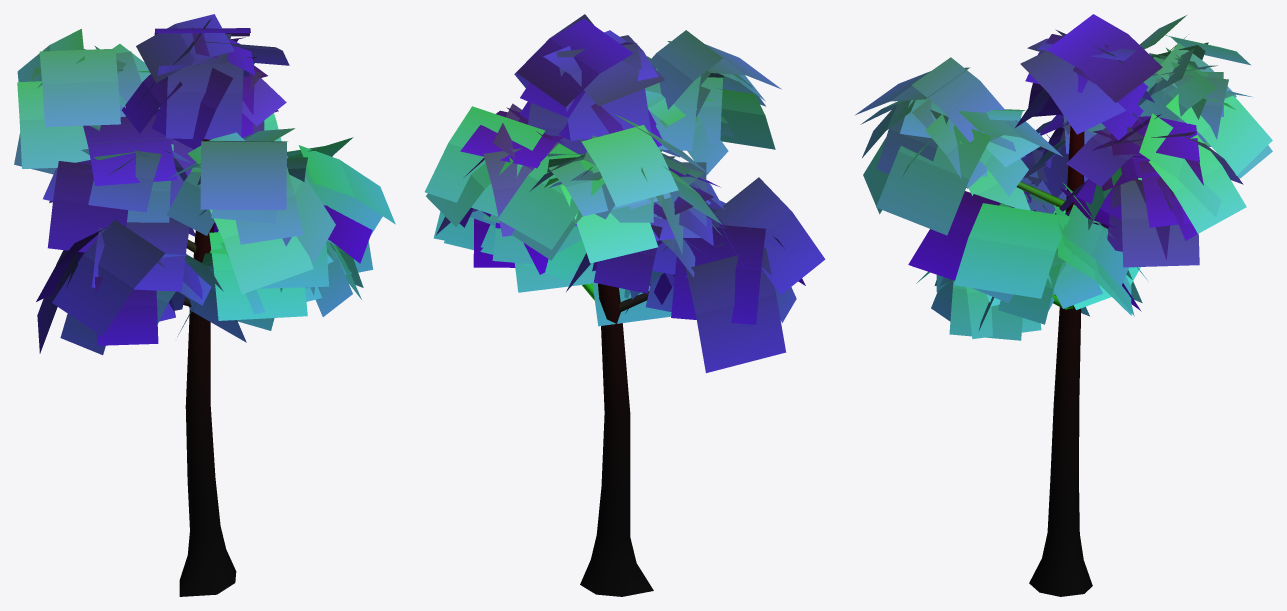
Rendered from Jungle3_LOD1.fbx.
3 views of the same model, side by side, from view 1: azimuth 30°, elevation 25°; view 2: azimuth 150°, elevation 25°; view 3: azimuth 270°, elevation 25° (orthographic).
Visible parts, largest first — view 1: Jungle3_Lite; view 2: Jungle3_Lite; view 3: Jungle3_Lite.
Part boxes in pixels (x1,y1,x2,y2): Jungle3_Lite: (14,14,395,596); Jungle3_Lite: (424,14,825,596); Jungle3_Lite: (855,14,1272,596).
Bounding box in the file's own units: 16.12 × 25.38 × 17.3.
